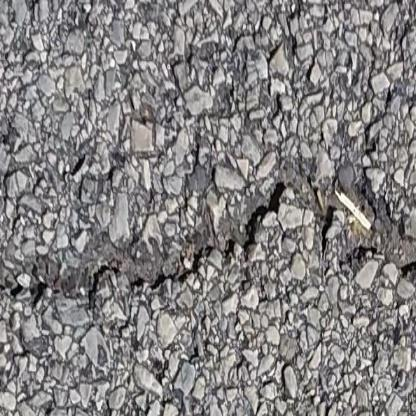Cracks: (0, 163, 416, 308)
